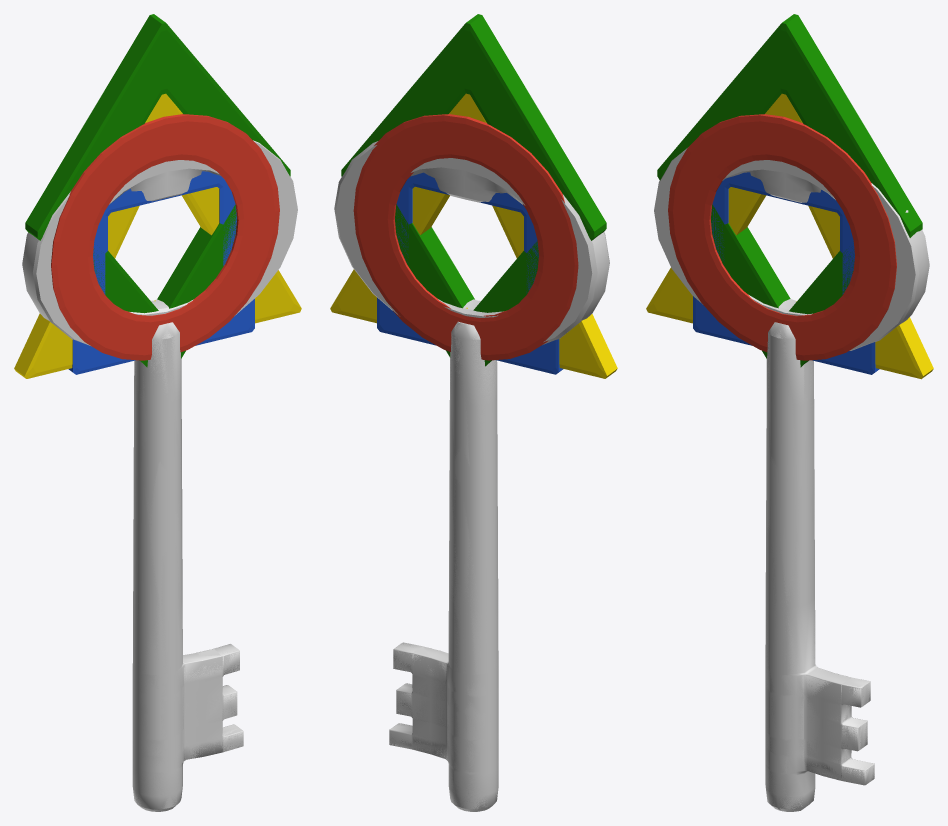
The model's file is key.fbx.
3 views of the same model, side by side, from view 1: azimuth 30°, elevation 25°; view 2: azimuth 150°, elevation 25°; view 3: azimuth 330°, elevation 25° (orthographic).
Parts seen in each view (by area): view 1: llave estudio, llave sotano, llave cocina, llave maquinas, llave dormitorio; view 2: llave estudio, llave sotano, llave cocina, llave maquinas, llave dormitorio; view 3: llave estudio, llave sotano, llave cocina, llave maquinas, llave dormitorio.
Part boxes in pixels (left/top/right/bottom): llave estudio: left=51, top=114, right=279, bottom=809; llave sotano: left=68, top=171, right=254, bottom=811; llave cocina: left=25, top=14, right=290, bottom=367; llave maquinas: left=22, top=140, right=297, bottom=345; llave dormitorio: left=14, top=93, right=301, bottom=378; llave estudio: left=353, top=114, right=578, bottom=811; llave sotano: left=377, top=172, right=563, bottom=811; llave cocina: left=341, top=14, right=606, bottom=366; llave maquinas: left=334, top=141, right=609, bottom=344; llave dormitorio: left=330, top=93, right=617, bottom=378; llave estudio: left=668, top=114, right=896, bottom=810; llave sotano: left=693, top=172, right=879, bottom=811; llave cocina: left=657, top=14, right=922, bottom=367; llave maquinas: left=654, top=148, right=929, bottom=350; llave dormitorio: left=646, top=93, right=933, bottom=379.
Size of the model in its own units: 13.32 by 36.05 by 2.07.
